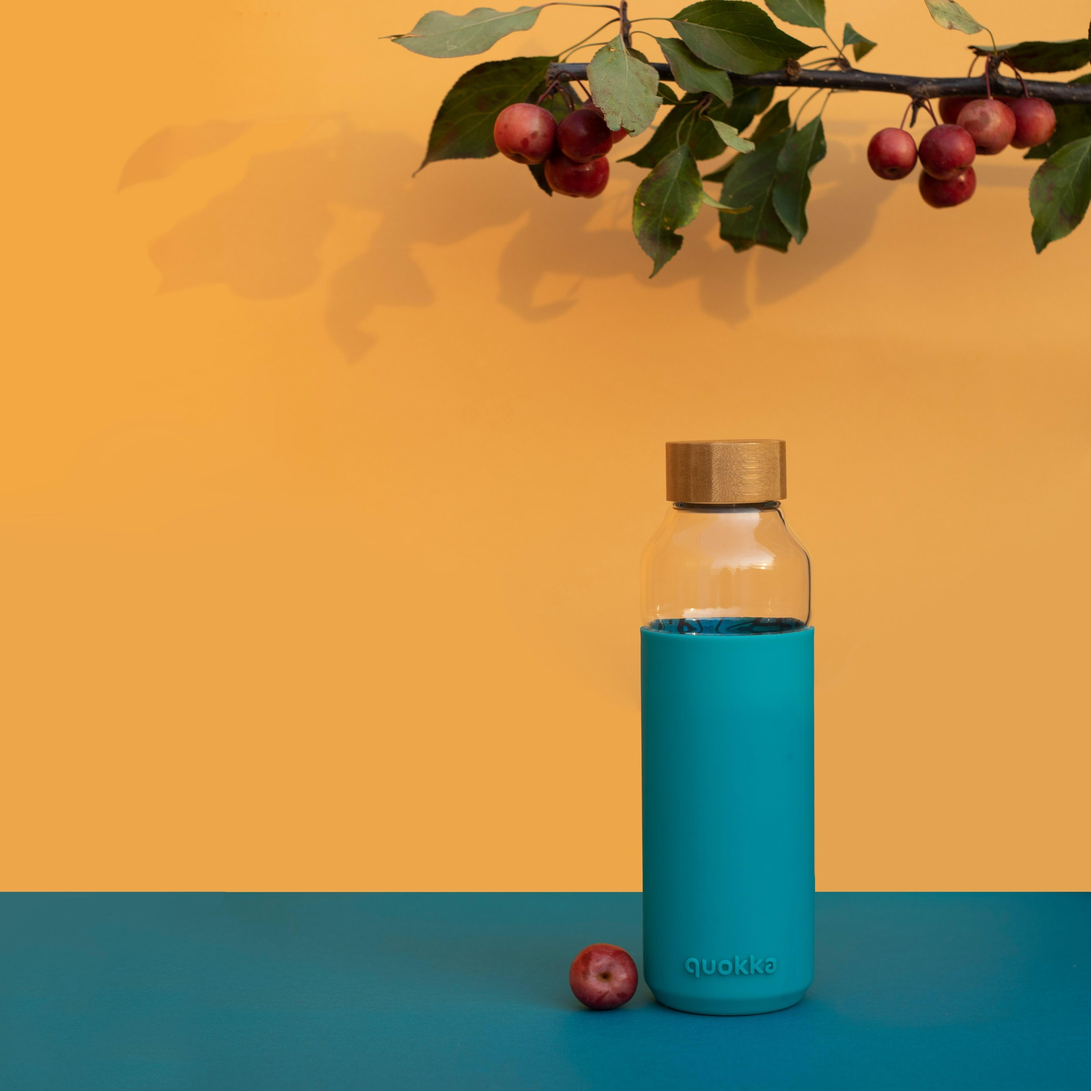Bottle-Detection: (597, 376, 863, 1054)
